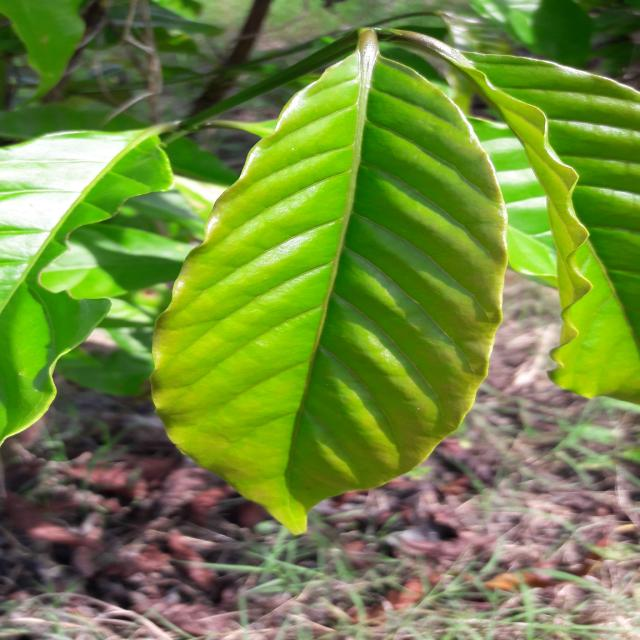Sanas: (149, 32, 508, 537)
